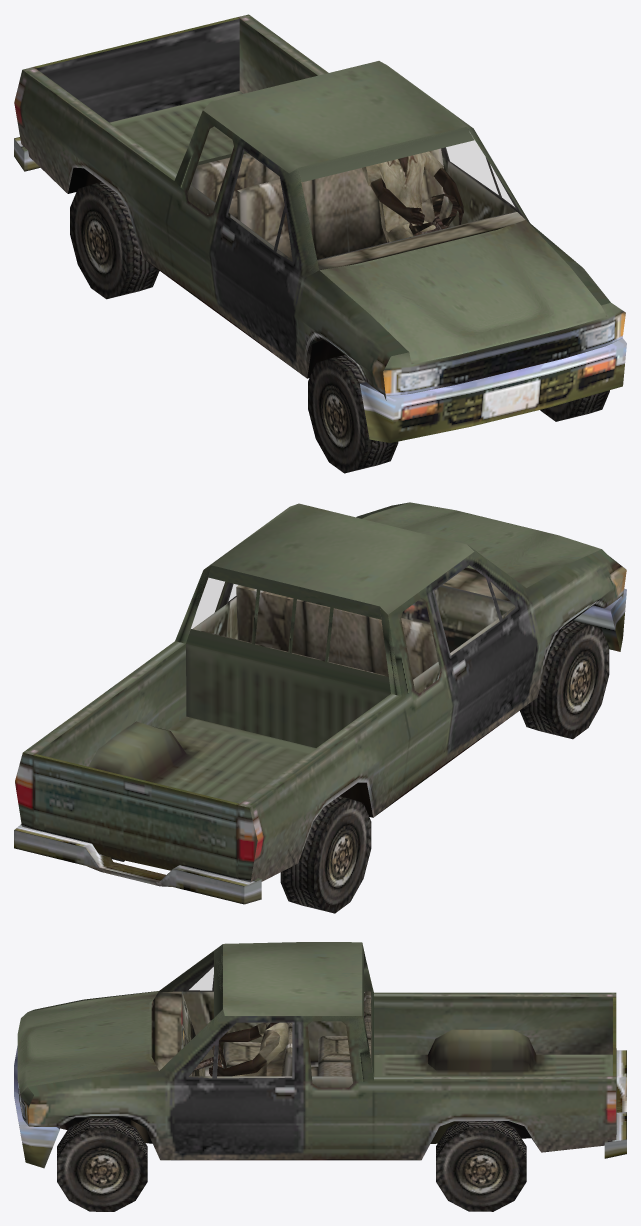
The model's file is ntrk1.glb.
The picture shows the model from 3 angles, top to bottom: view 1: azimuth 30°, elevation 25°; view 2: azimuth 150°, elevation 25°; view 3: azimuth 270°, elevation 25°; orthographic projection. The views are drawn at different scales.
Parts seen in each view (by area): view 1: _ntrk1; view 2: _ntrk1; view 3: _ntrk1.
Part boxes in pixels (x1,y1,x2,y2): _ntrk1: (14,14,626,473); _ntrk1: (14,502,626,913); _ntrk1: (14,942,626,1211).
Size of the model in its own units: 2.21 by 2 by 5.88.
Materials: 5 (5 with a texture image).
